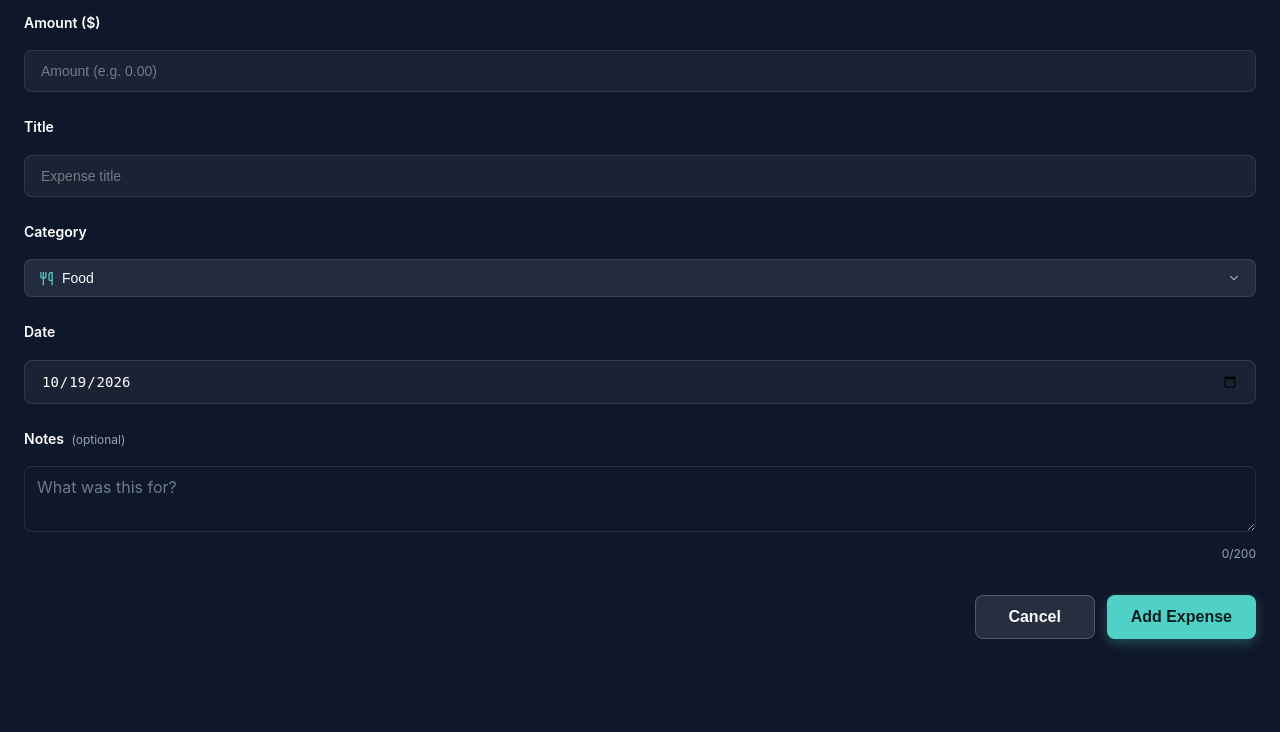
ExpenseForm component › shows validation error for invalid amount
In the field labelled "Title": (640, 176) x1=24 y1=155 x2=1256 y2=197, type "Coffee"
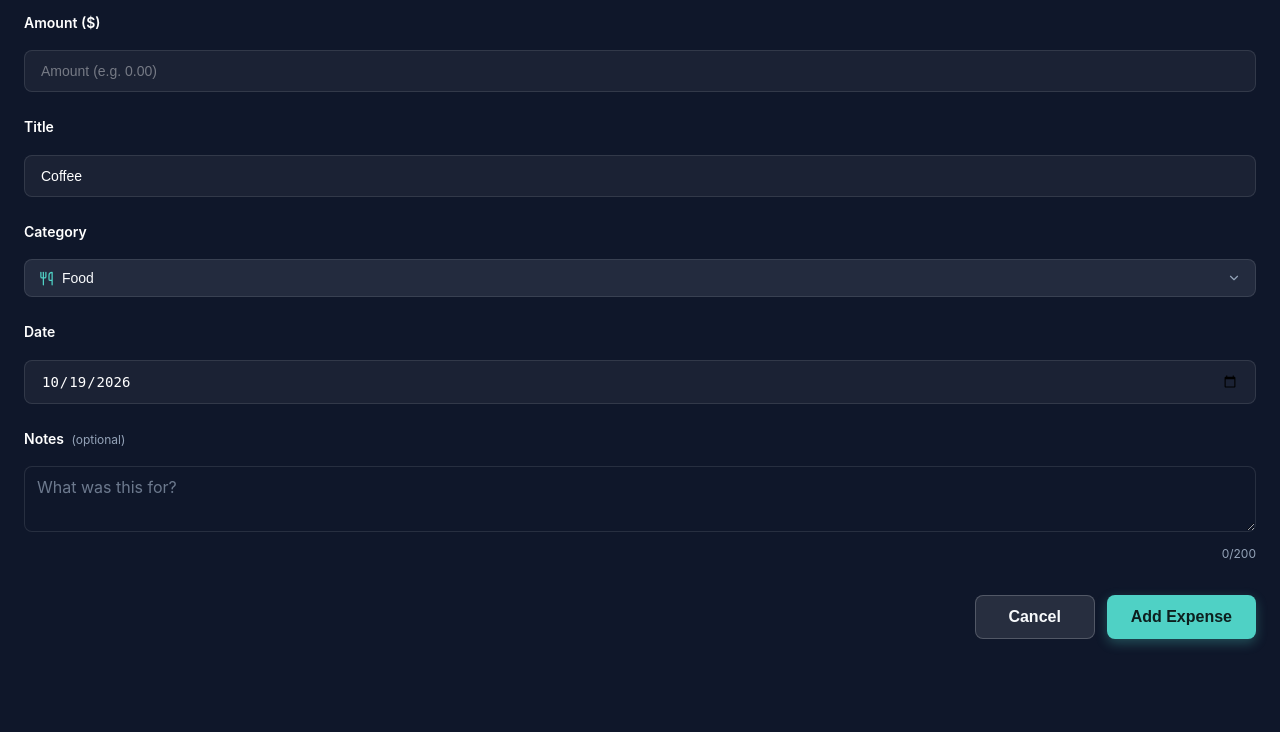
In the date field labelled "Date": (640, 382) x1=24 y1=360 x2=1256 y2=404, type "2024-02-20"
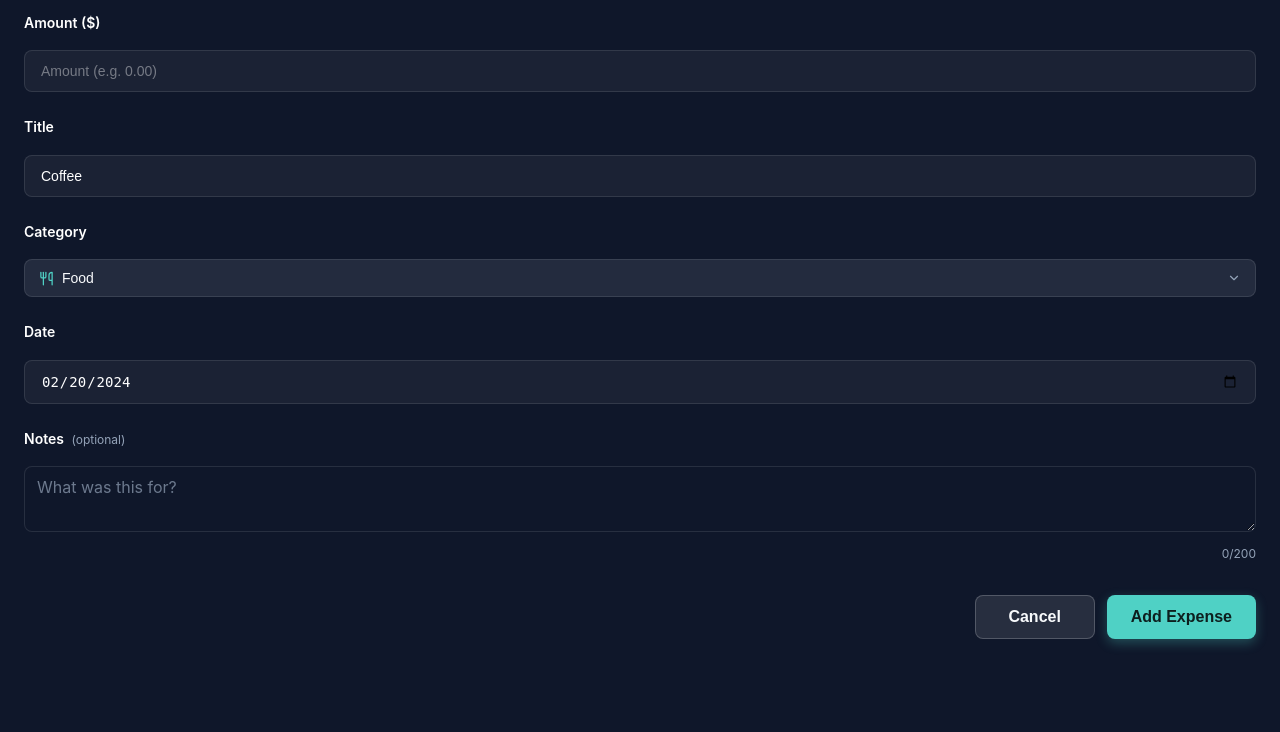
Click the button "Add Expense": (1181, 617) x1=1107 y1=595 x2=1256 y2=639
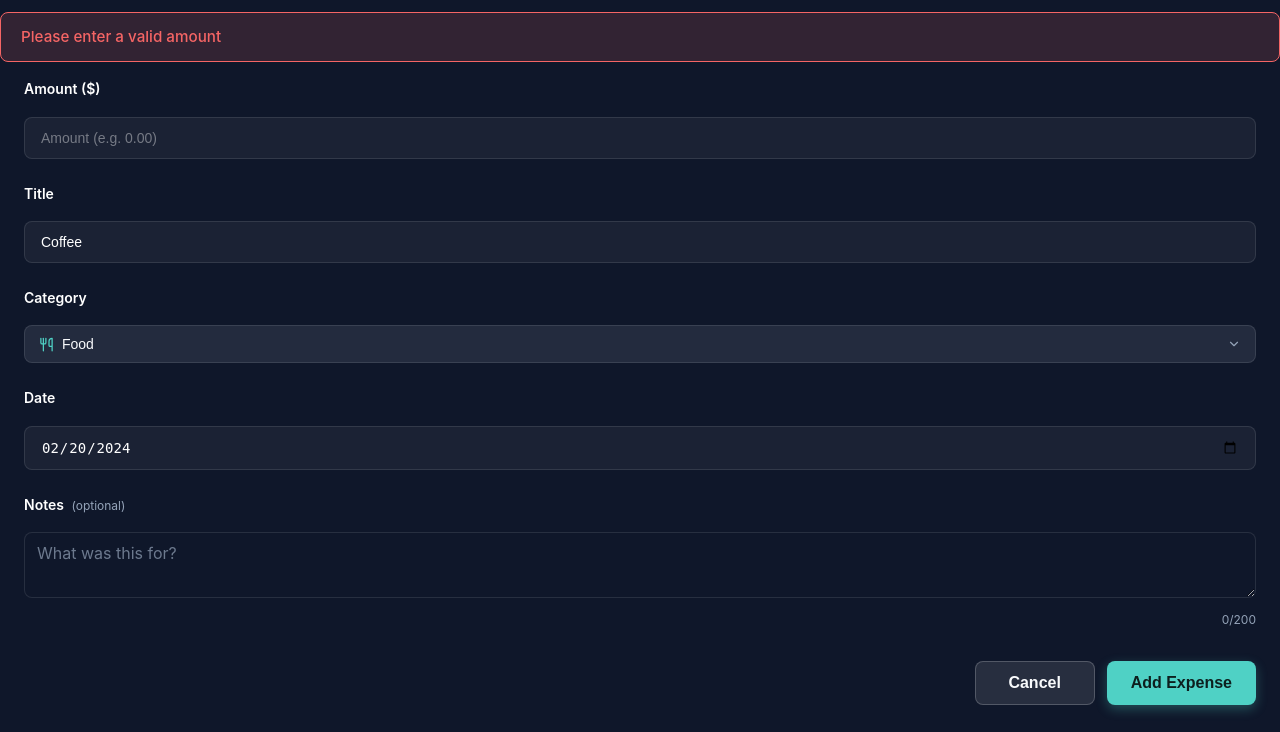
Result: the text "Please enter a valid amount" is shown at x1=0 y1=12 x2=1279 y2=62
